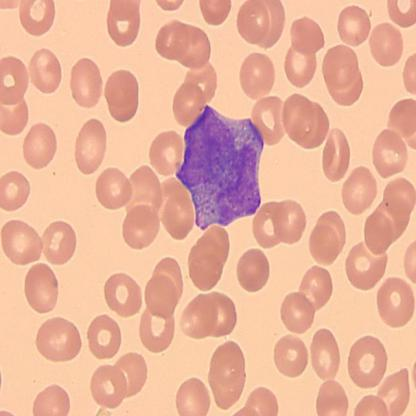Promyelocyte: (178, 110, 266, 232)
